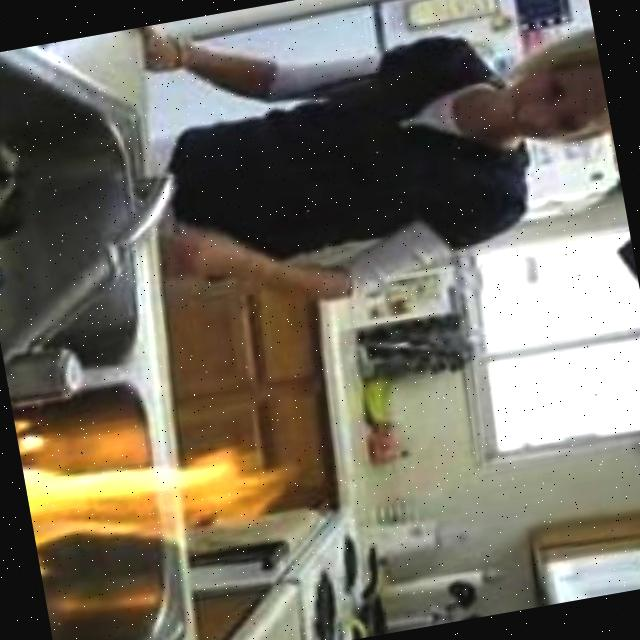fire: (15, 387, 313, 586)
